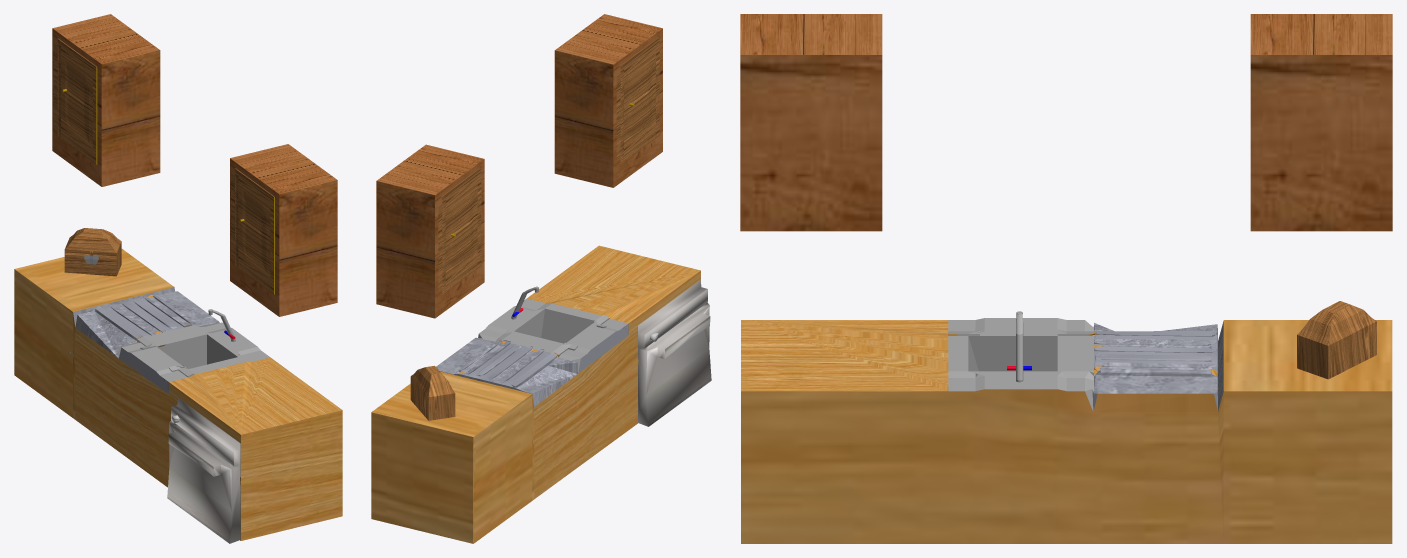
The model's file is kitchen.obj.
3 renders of one model, left to right at view 1: azimuth 30°, elevation 25°; view 2: azimuth 150°, elevation 25°; view 3: azimuth 270°, elevation 25°, orthographic. The views are drawn at different scales.
Visible parts, largest first — view 1: kitchen, Object001; view 2: kitchen, Object001; view 3: kitchen.
Boxes of the visible parts, x1,y1,x2,y2 form: kitchen: (15, 14, 342, 543); Object001: (14, 269, 72, 417); kitchen: (371, 14, 711, 543); Object001: (473, 394, 532, 543); kitchen: (740, 14, 1392, 543).
Bounding box in the file's own units: 59.02 × 159 × 193.
Materials: 6 (5 with a texture image).
